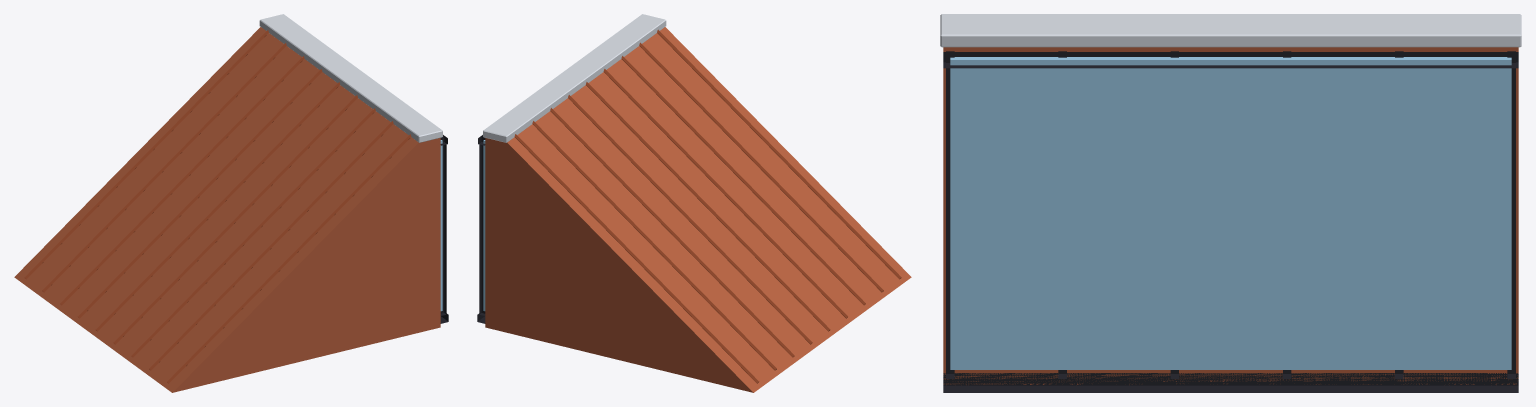
Rendered from hall_sawtooth_bay.glb.
The picture shows the model from 3 angles, left to right: view 1: azimuth 30°, elevation 25°; view 2: azimuth 150°, elevation 25°; view 3: azimuth 270°, elevation 25°; orthographic projection. The views are drawn at different scales.
Parts seen in each view (by area): view 1: roof; view 2: roof; view 3: roof.
Part boxes in pixels (x1,y1,x2,y2): roof: [14, 14, 448, 392]; roof: [477, 14, 911, 392]; roof: [940, 14, 1521, 392].
Bounding box in the file's own units: 4.08 × 2.78 × 4.08.
